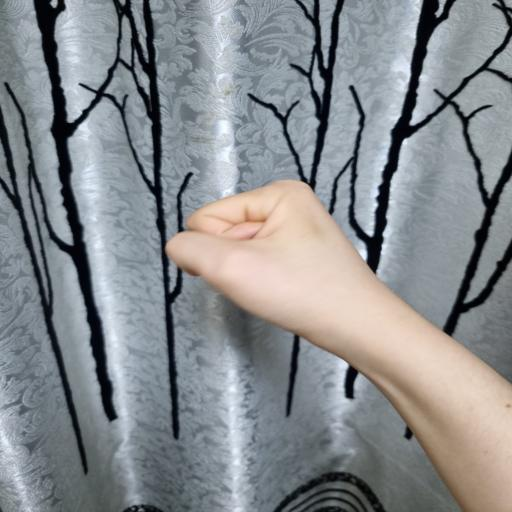Rock: (165, 180, 378, 342)
